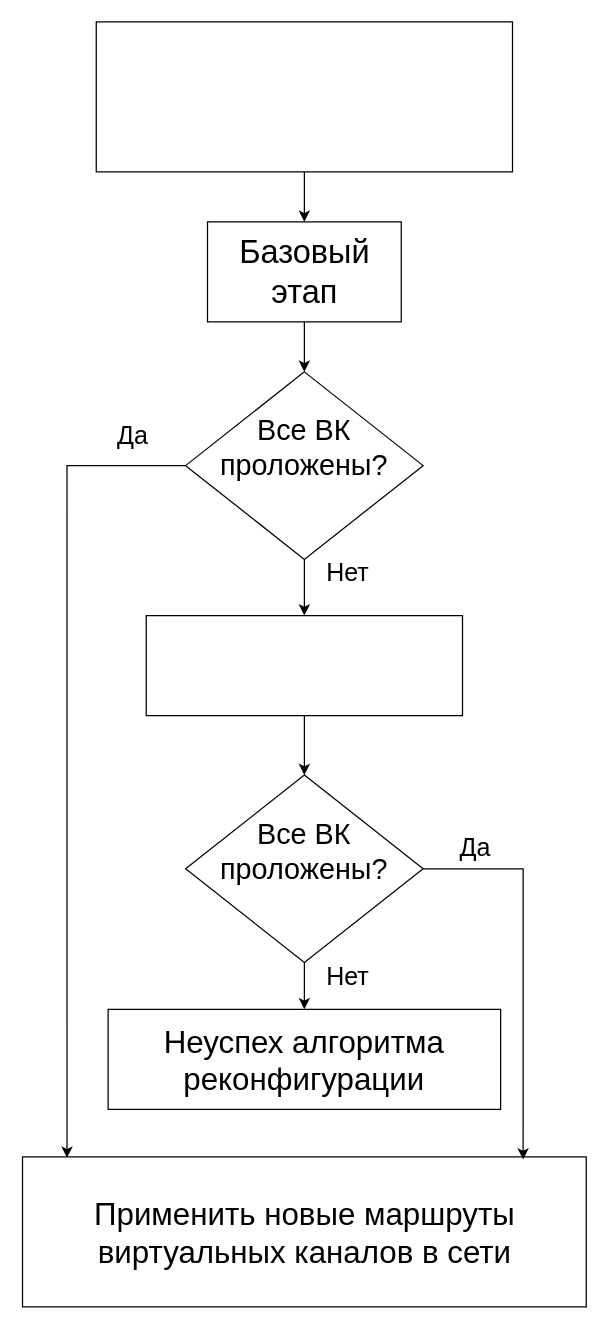
Image size: 608x1329. Some labels were removed from this diagram. The centre of each missing label's shape, as x and y in pixels:
"Дополнительный этап" goes at (x=303, y=665).
"Из графа топологии удалить сбойные вершины и рёбра" goes at (x=303, y=96).
